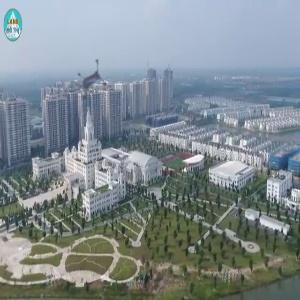drone: (69, 64, 117, 112)
